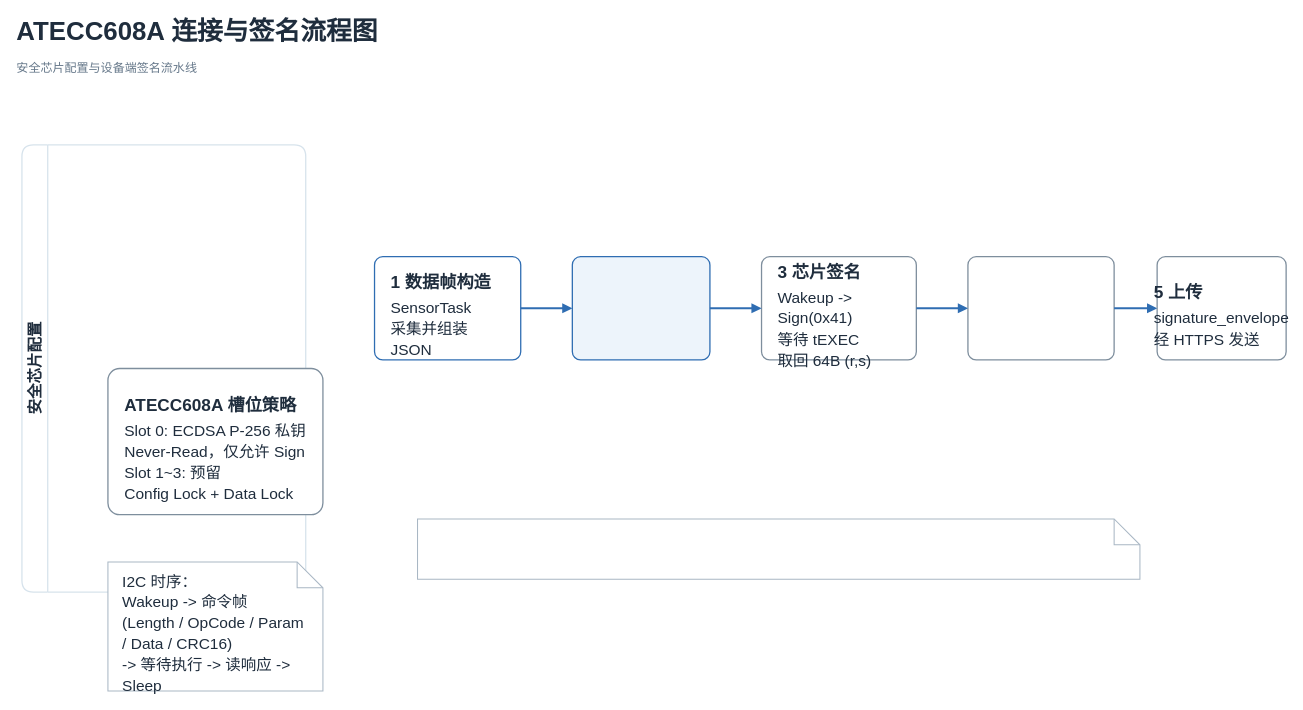
Image size: 1303x710. Some labels were removed from this diagram. The shapes that lost their labels are listed below. From the top down, each one's centre as x and y in pixels, then its label:
the point at 640,308: 2 摘要计算 规范化序列化 HASH-SHA256
the point at 1040,308: 4 DER 编码 原始 (r,s) 转 ASN.1 DER
the point at 778,548: 性能备注：ATECC608A 签名实测约 7 ms；从采集到封装上传整个路径约 15~25 ms。
